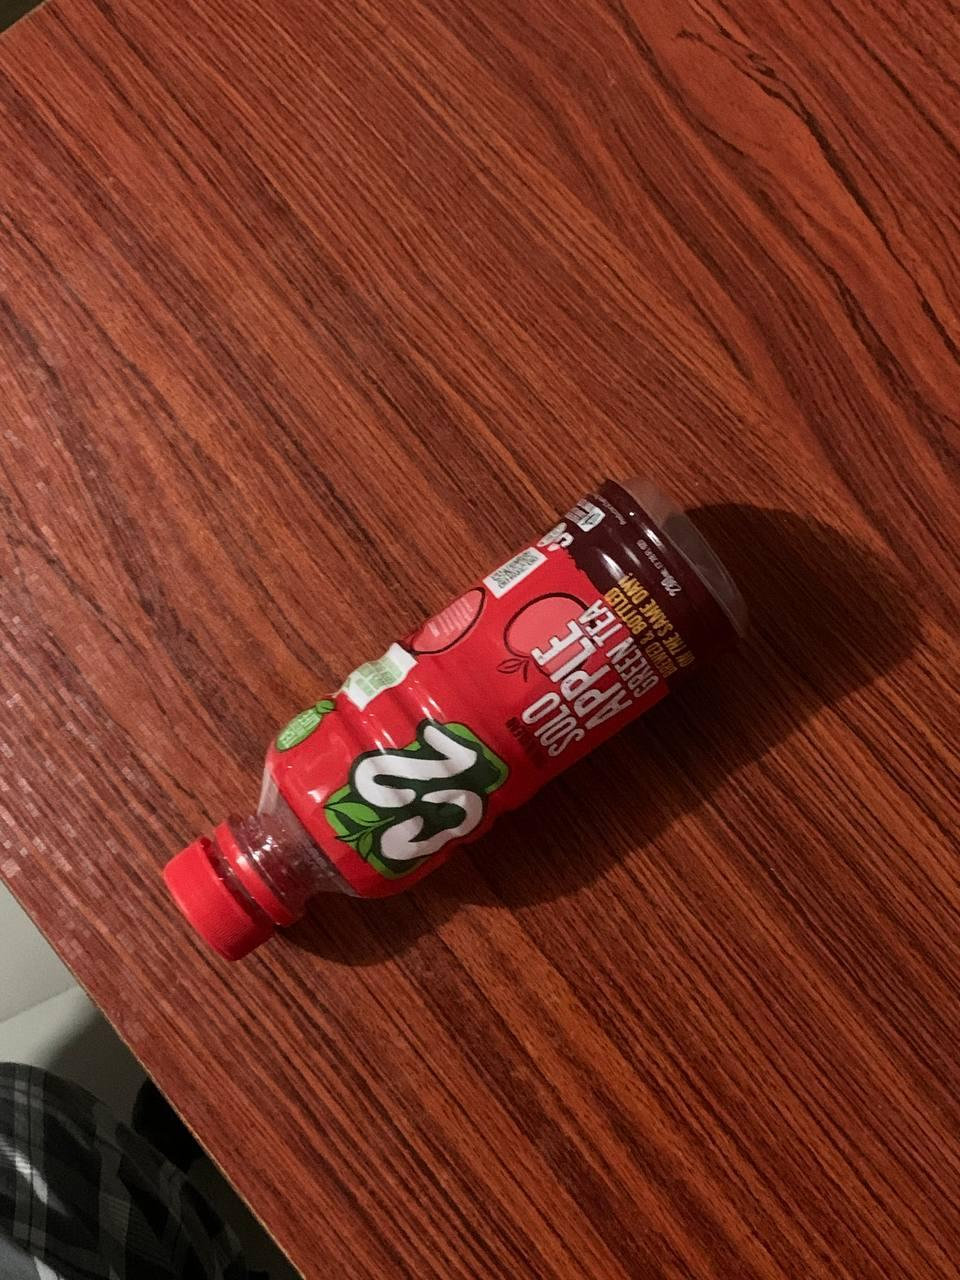plastic: (107, 434, 863, 1016)
